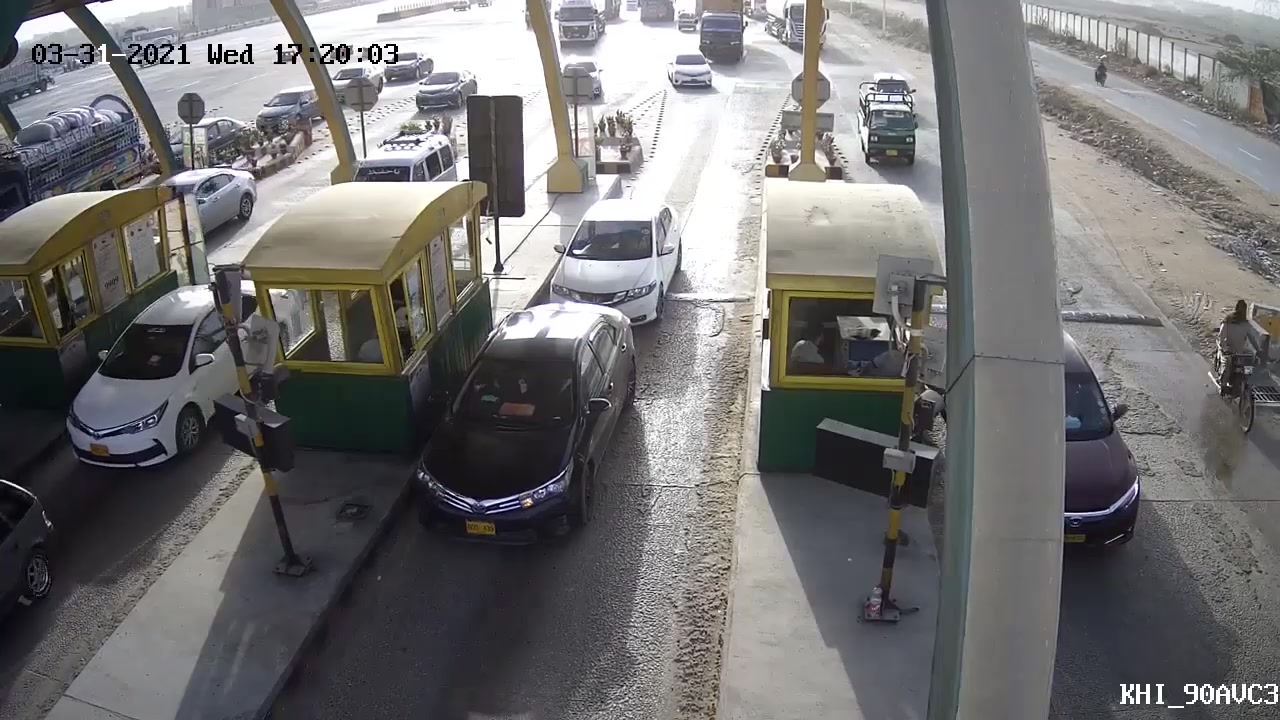F1: (398, 304, 642, 565), (546, 178, 686, 328)
